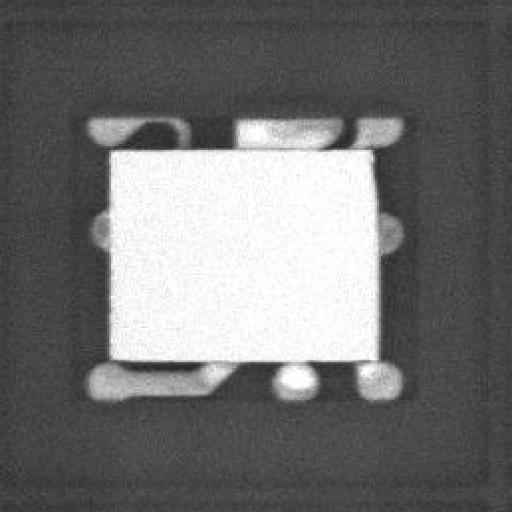DIE_BROKEN: (363, 144, 377, 220)
